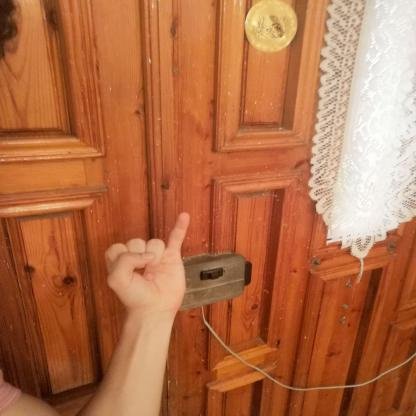MEEM: (86, 204, 203, 321)
